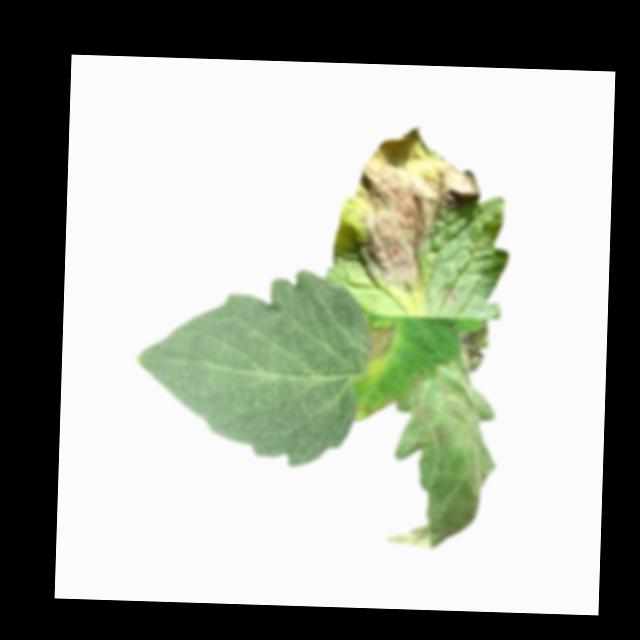Late_blight: (334, 122, 482, 295), (385, 358, 502, 551), (457, 319, 493, 372), (361, 322, 394, 369), (440, 285, 457, 306)
